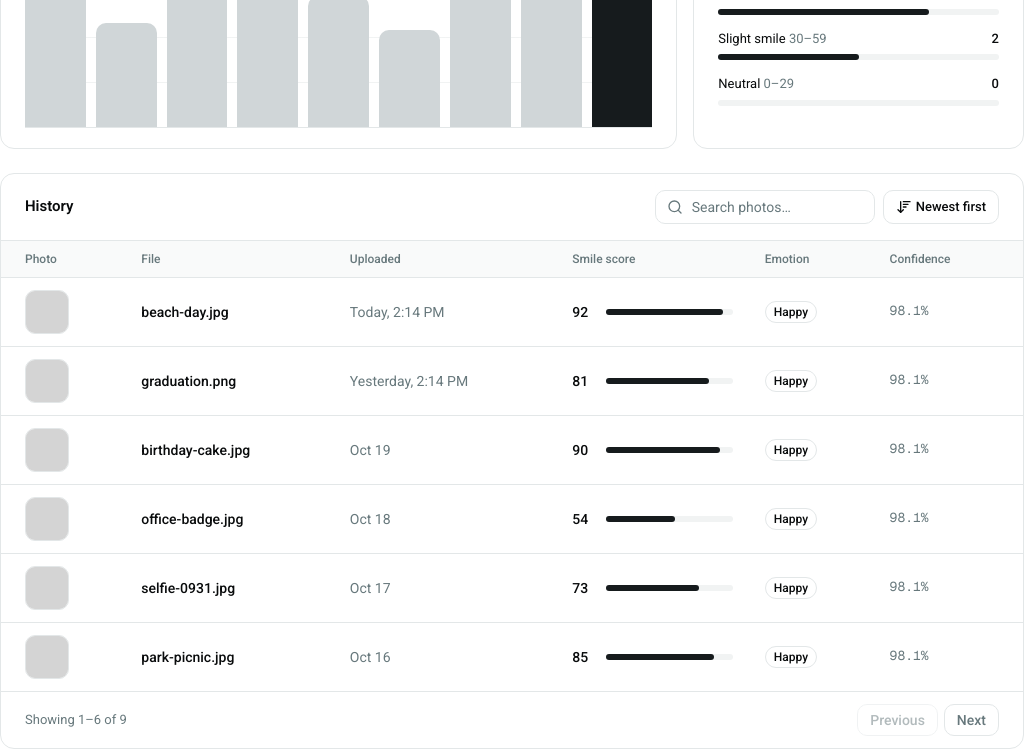
DashboardView › fetches the next page of the history
This screenshot has width=1024, height=749.
(page scrolled)
Click the button "Next" at (971, 720), box [944, 704, 999, 736]
(page scrolled)
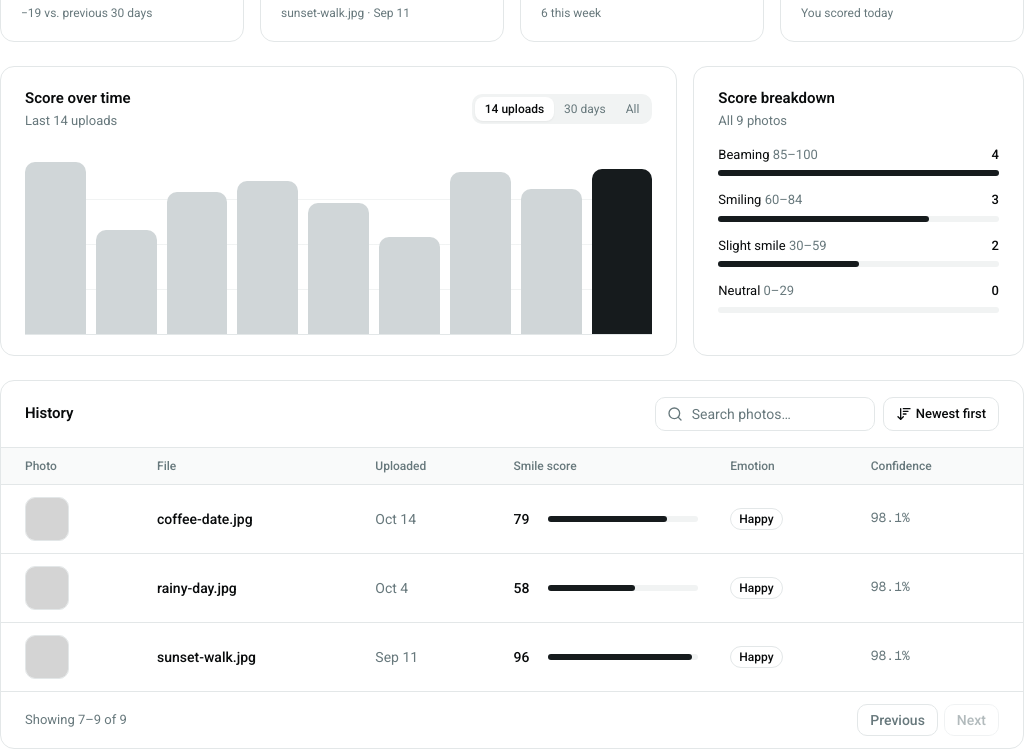
Now the text "Showing 7–9 of 9" is shown, box [25, 710, 127, 729]
